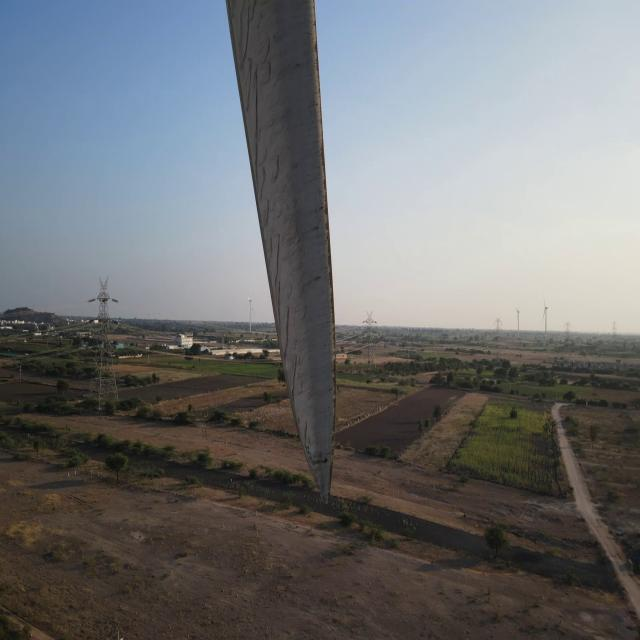Dirt: (225, 0, 340, 512)
Pin Hole: (319, 454, 332, 469)
